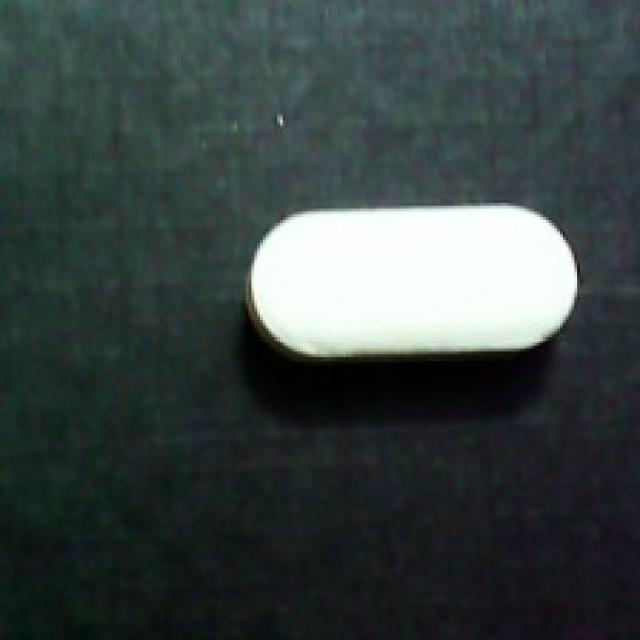no-defect: (243, 197, 583, 369)
